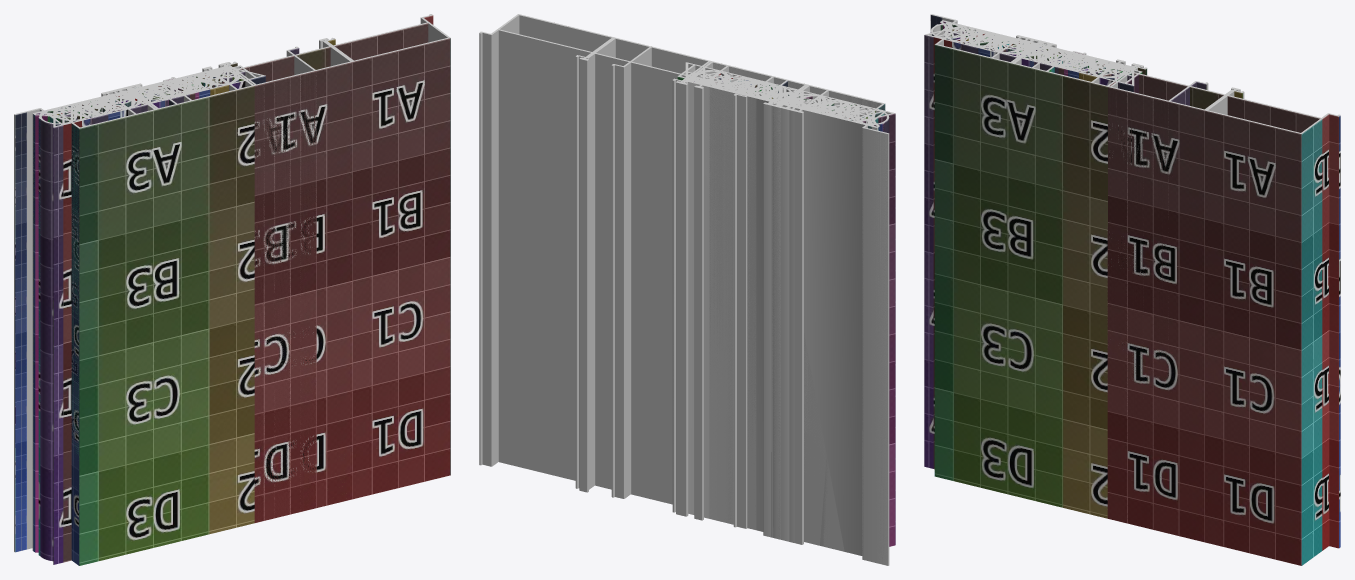
File: MatrixRotador copy.glb
3 views of the same model, side by side, from view 1: azimuth 30°, elevation 25°; view 2: azimuth 150°, elevation 25°; view 3: azimuth 330°, elevation 25° (orthographic).
Visible parts, largest first — view 1: matriz2_h, matriz2_j, matriz2_l, matriz2_n, matriz9_30, matriz11_32, matriz9_20, matriz11_24, matriz2_m, matriz9_33, matriz2_c, matriz2_k (+8 smaller); view 2: matriz2_c, matriz2_e, matriz5_d, matriz2_j, matriz2_n, matriz9_39, matriz9_11, matriz2_f, matriz9_4, matriz9_18, matriz9_6, matriz9_5 (+24 smaller); view 3: matriz2_h, matriz2_j, matriz2_l, matriz2_c, matriz11_32, matriz2_n, matriz11_24, matriz2_g, matriz11_10.
Part boxes in pixels (bbox=[...]): matriz2_h: bbox=[71, 86, 254, 565]; matriz2_j: bbox=[58, 14, 450, 499]; matriz2_l: bbox=[123, 39, 352, 522]; matriz2_n: bbox=[79, 46, 316, 522]; matriz9_30: bbox=[33, 73, 209, 561]; matriz11_32: bbox=[15, 68, 229, 564]; matriz9_20: bbox=[15, 63, 237, 551]; matriz11_24: bbox=[62, 68, 226, 562]; matriz2_m: bbox=[71, 78, 191, 565]; matriz9_33: bbox=[33, 92, 141, 552]; matriz2_c: bbox=[220, 15, 433, 69]; matriz2_k: bbox=[71, 90, 153, 455]; matriz2_c: bbox=[479, 29, 591, 490]; matriz2_e: bbox=[575, 52, 860, 539]; matriz5_d: bbox=[756, 98, 864, 555]; matriz2_j: bbox=[479, 14, 884, 516]; matriz2_n: bbox=[611, 47, 804, 537]; matriz9_39: bbox=[673, 81, 880, 544]; matriz9_11: bbox=[674, 89, 888, 541]; matriz2_f: bbox=[733, 93, 803, 544]; matriz9_4: bbox=[673, 80, 888, 565]; matriz9_18: bbox=[673, 81, 888, 563]; matriz9_6: bbox=[674, 80, 888, 559]; matriz9_5: bbox=[673, 81, 888, 564]; matriz2_h: bbox=[934, 45, 1115, 518]; matriz2_j: bbox=[935, 29, 1340, 565]; matriz2_l: bbox=[938, 30, 1244, 542]; matriz2_c: bbox=[955, 21, 1340, 550]; matriz11_32: bbox=[924, 21, 1129, 468]; matriz2_n: bbox=[1015, 43, 1208, 525]; matriz11_24: bbox=[933, 28, 1128, 469]; matriz2_g: bbox=[1046, 42, 1207, 100]; matriz11_10: bbox=[960, 27, 1134, 85].
Bounding box in the file's own units: 0.3187 × 0.32 × 0.0413.
Materials: 2 (1 with a texture image).
